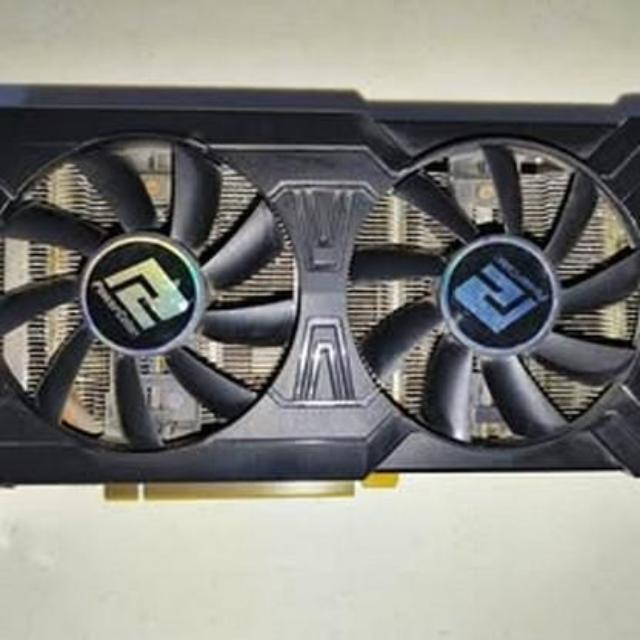GPU: (0, 77, 640, 503)
